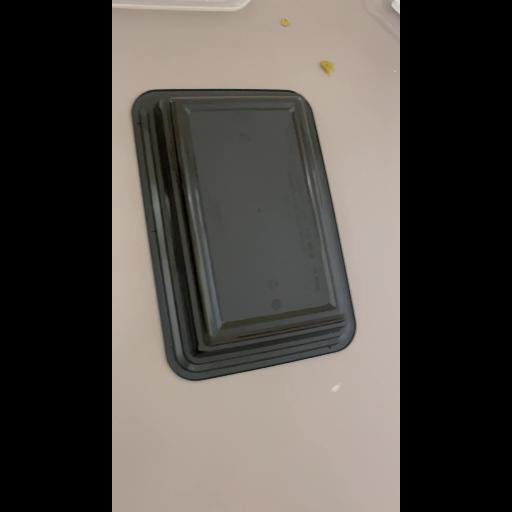rigid_plastic_container: (131, 90, 355, 376)
